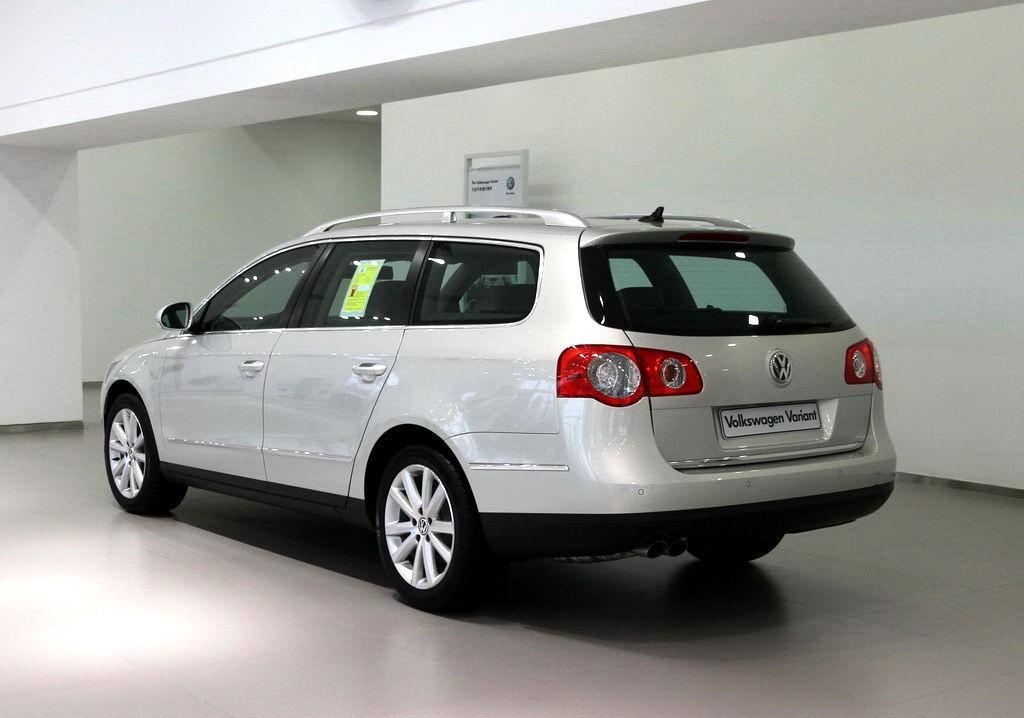Wagon: (101, 205, 896, 600)
